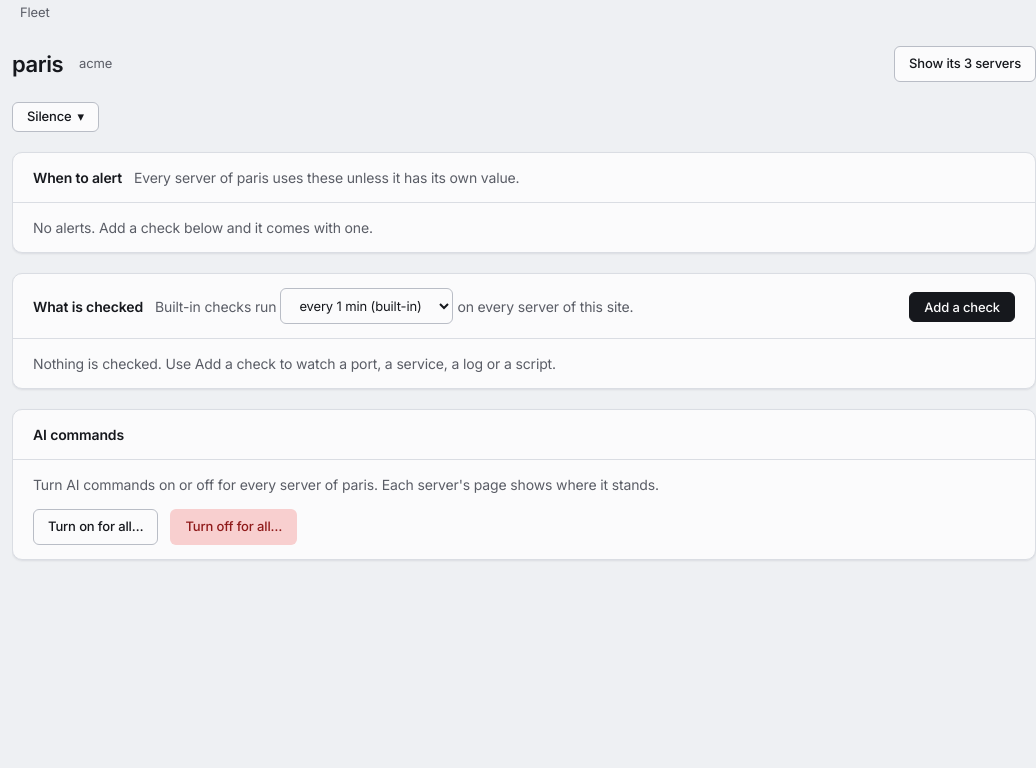
Scenario: SitePage › lets its administrators turn AI commands on for every server, saying which were skipped
This screenshot has width=1036, height=768.
Click the button "Turn on for all…" at (96, 527), box [33,509,158,545]
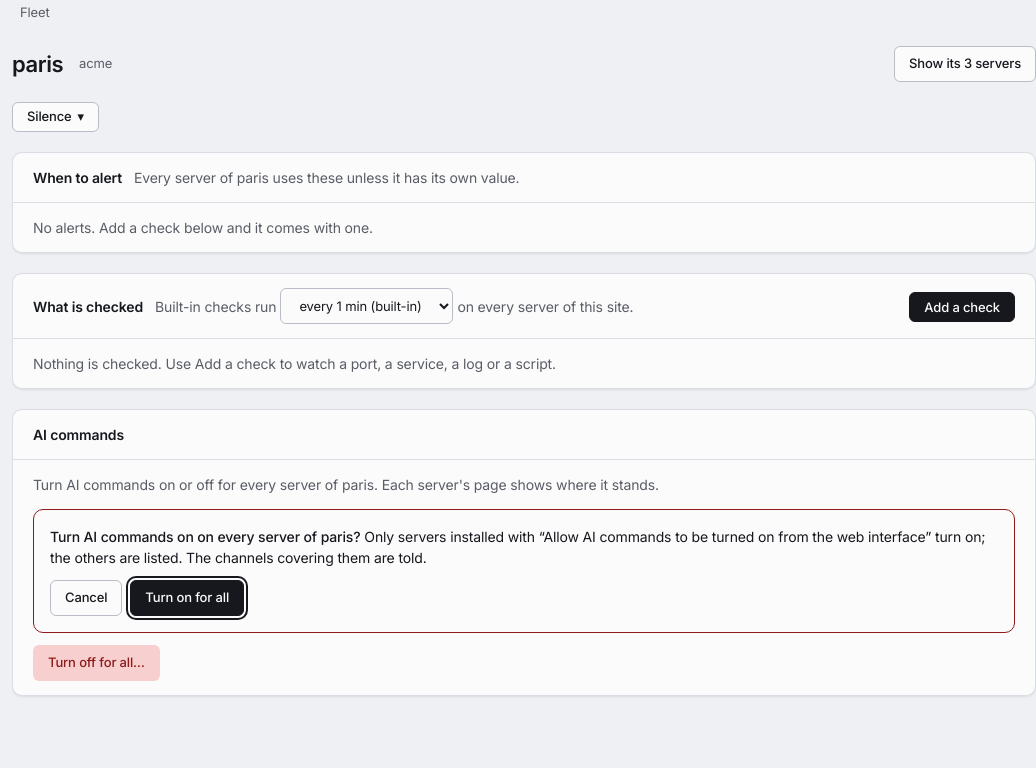
Click the button "Turn on for all" at (187, 598), box [130,580,244,616]
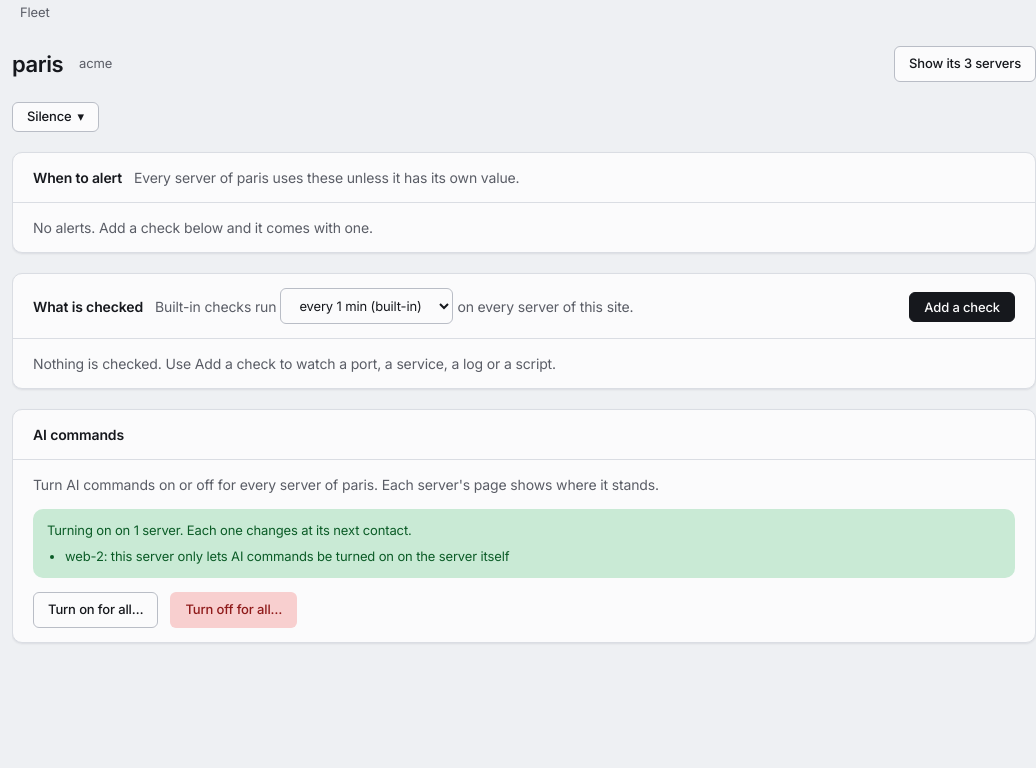
Now the text "Turning on on 1 server." is shown, box [47,522,412,538]
Now the list item "web-2: this server only lets" is shown, box [65,548,509,564]
